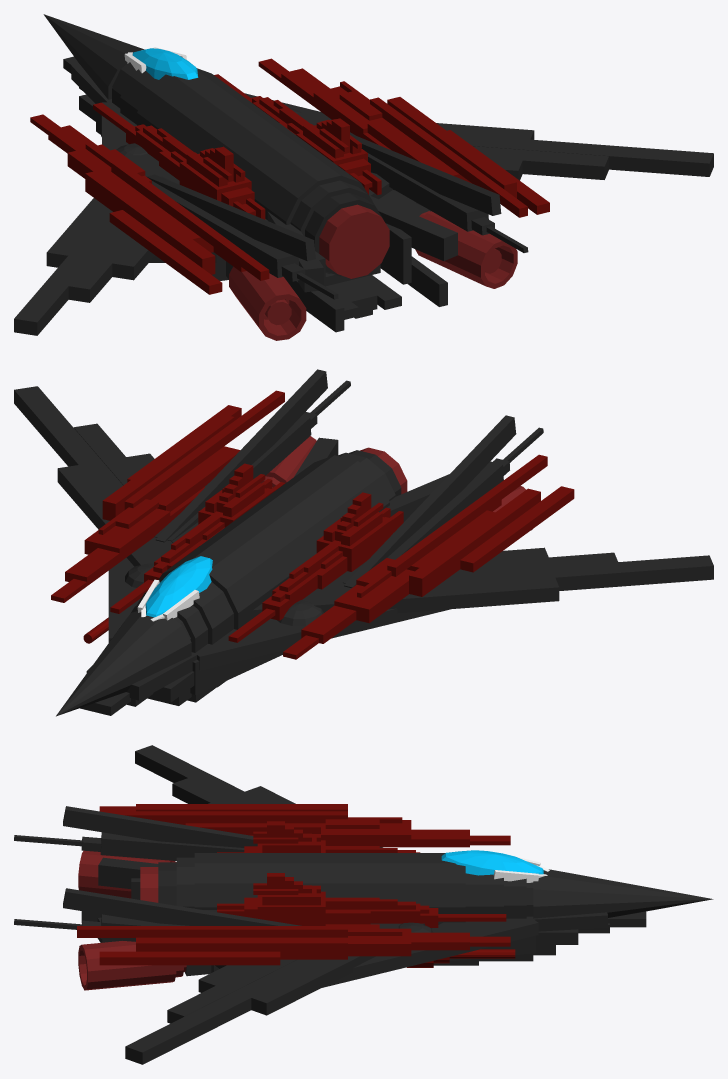
File: PlayerShipA.gltf
3 renders of one model, top to bottom at view 1: azimuth 30°, elevation 25°; view 2: azimuth 150°, elevation 25°; view 3: azimuth 270°, elevation 25°, orthographic. The views are drawn at different scales.
Visible parts, largest first — view 1: cube (×33), cylinder (×5), tube (×2), cone, Bottom (×2), Cocpit, Head; view 2: cube (×35), cylinder (×4), cone, Head (×3), Cocpit, tube, sphere; view 3: cube (×32), cylinder (×7), cone, tube (×2), Head (×3), Cocpit.
Part boxes in pixels (x1=…): cube (×33): x1=14, y1=68, x2=713, y2=335; cylinder (×5): x1=120, y1=68, x2=389, y2=278; tube (×2): x1=229, y1=211, x2=517, y2=340; cone: x1=43, y1=14, x2=144, y2=99; Bottom (×2): x1=329, y1=275, x2=401, y2=313; Cocpit: x1=132, y1=48, x2=198, y2=79; Head: x1=71, y1=64, x2=132, y2=123; cube (×35): x1=14, y1=369, x2=713, y2=694; cylinder (×4): x1=131, y1=452, x2=395, y2=652; cone: x1=56, y1=611, x2=191, y2=716; Head (×3): x1=80, y1=634, x2=228, y2=715; Cocpit: x1=145, y1=556, x2=212, y2=617; tube: x1=265, y1=436, x2=316, y2=483; sphere: x1=277, y1=600, x2=323, y2=625; cube (×32): x1=63, y1=745, x2=538, y2=1064; cylinder (×7): x1=140, y1=853, x2=526, y2=958; cone: x1=533, y1=869, x2=713, y2=918; tube (×2): x1=78, y1=850, x2=176, y2=990; Head (×3): x1=473, y1=911, x2=646, y2=944; Cocpit: x1=441, y1=850, x2=543, y2=875.
Bounding box in the file's own units: 16.11 × 2.75 × 15.5.
Materials: 3 (2 with a texture image).
